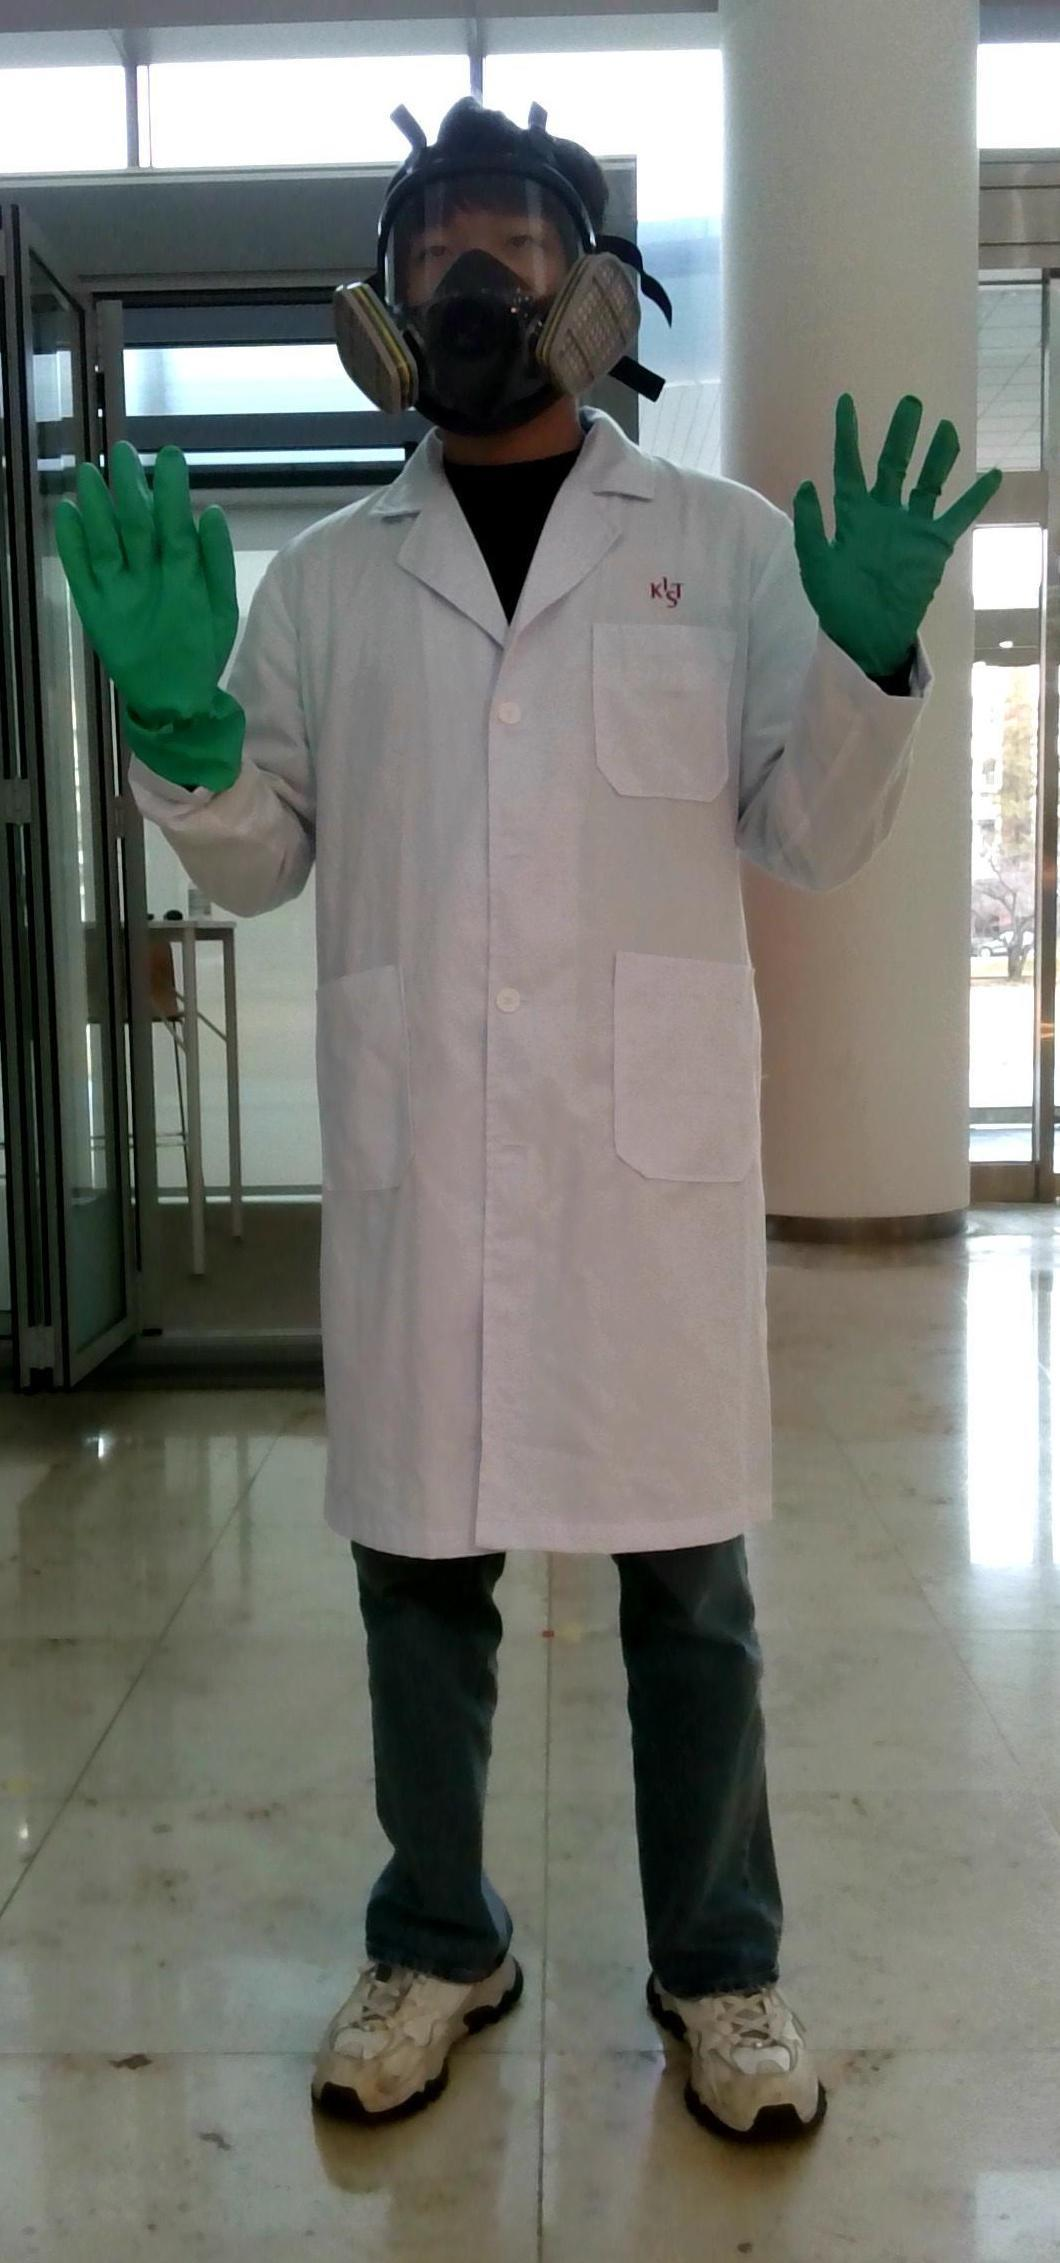lab_coat: (282, 517, 791, 1531)
